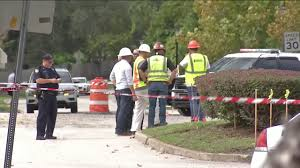hard hat: (116, 47, 133, 56), (185, 40, 201, 48), (151, 42, 166, 49), (136, 44, 149, 52)
high-vis: (184, 54, 207, 85), (148, 55, 169, 81), (133, 56, 148, 89)
